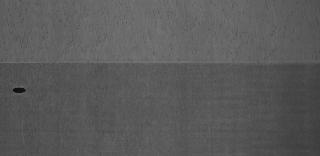punching hole: (12, 86, 26, 94)
welding line: (2, 59, 318, 67)
